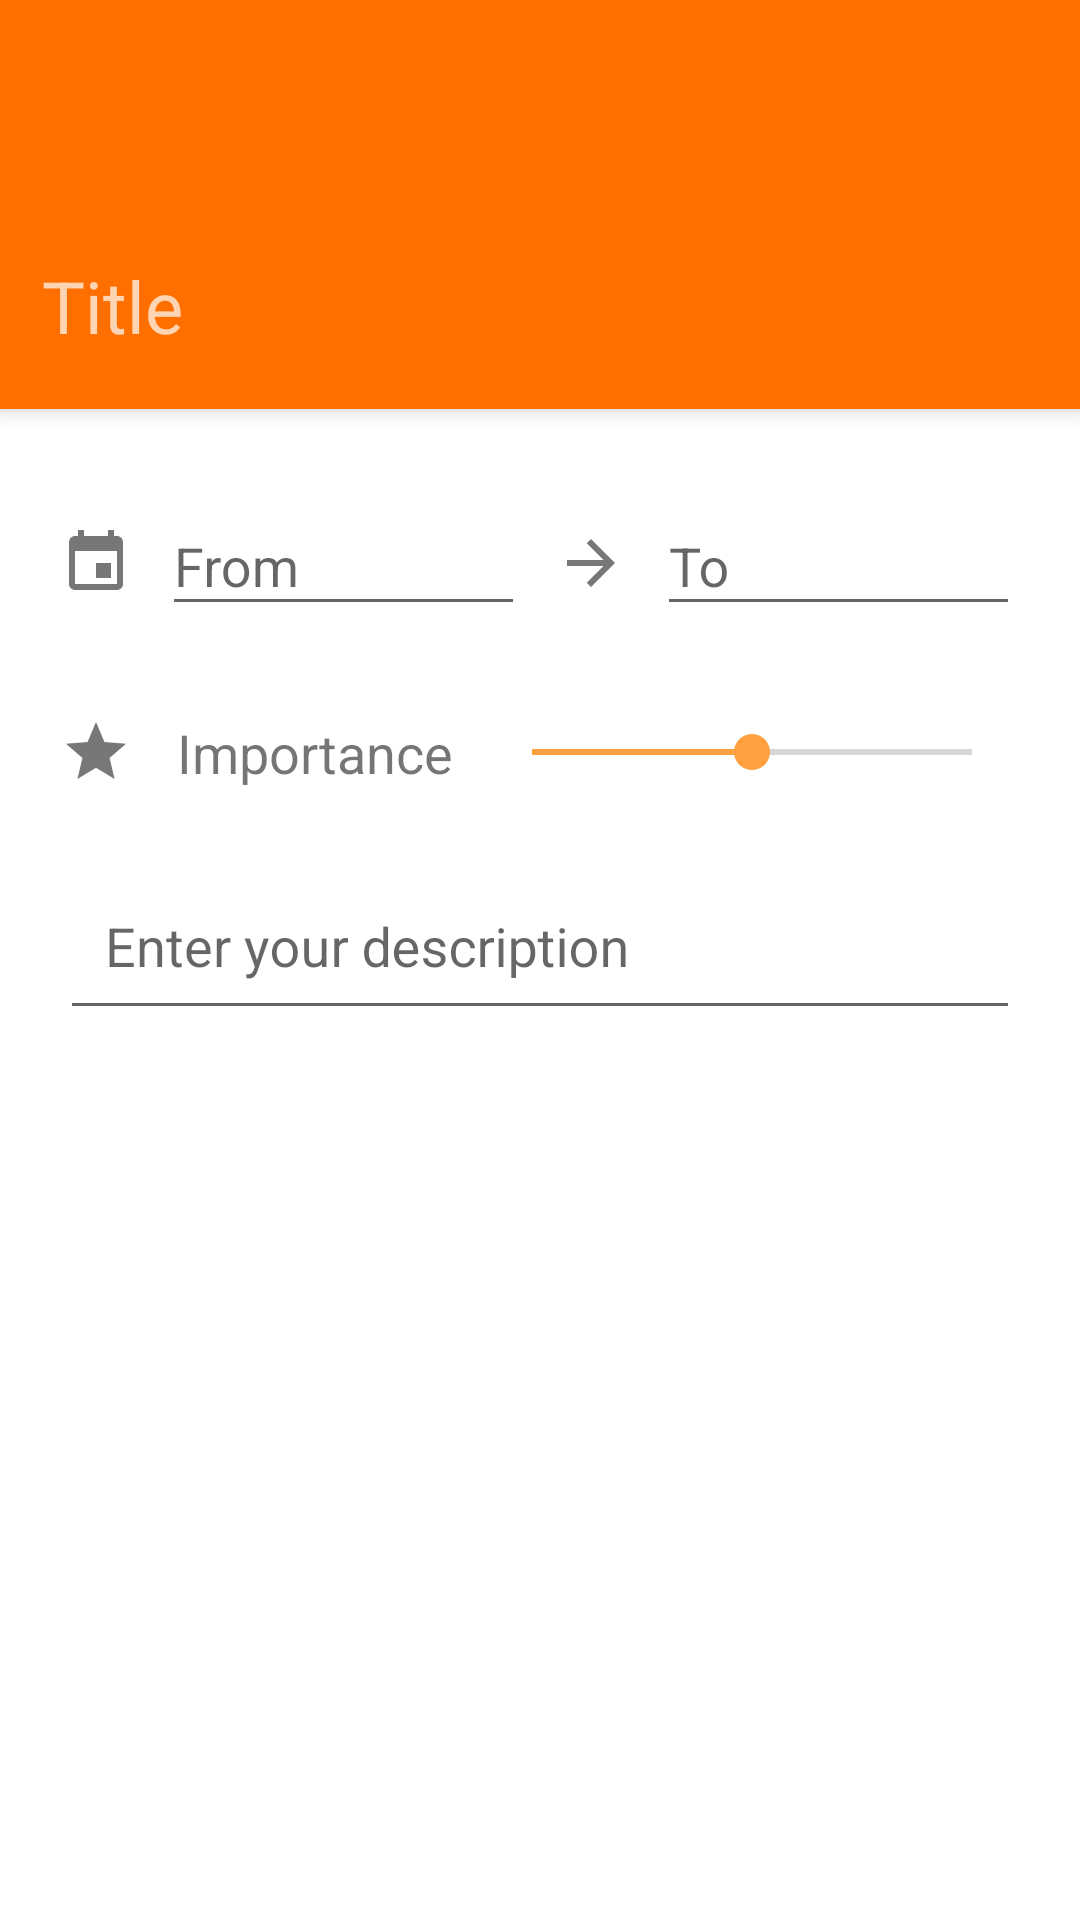

Screen size 1080px x 1920px. Icon name, then its box in pixels as (x1, y1, x2, y2):
arrow forward: (567, 539, 615, 587)
date picker: (69, 530, 123, 590)
